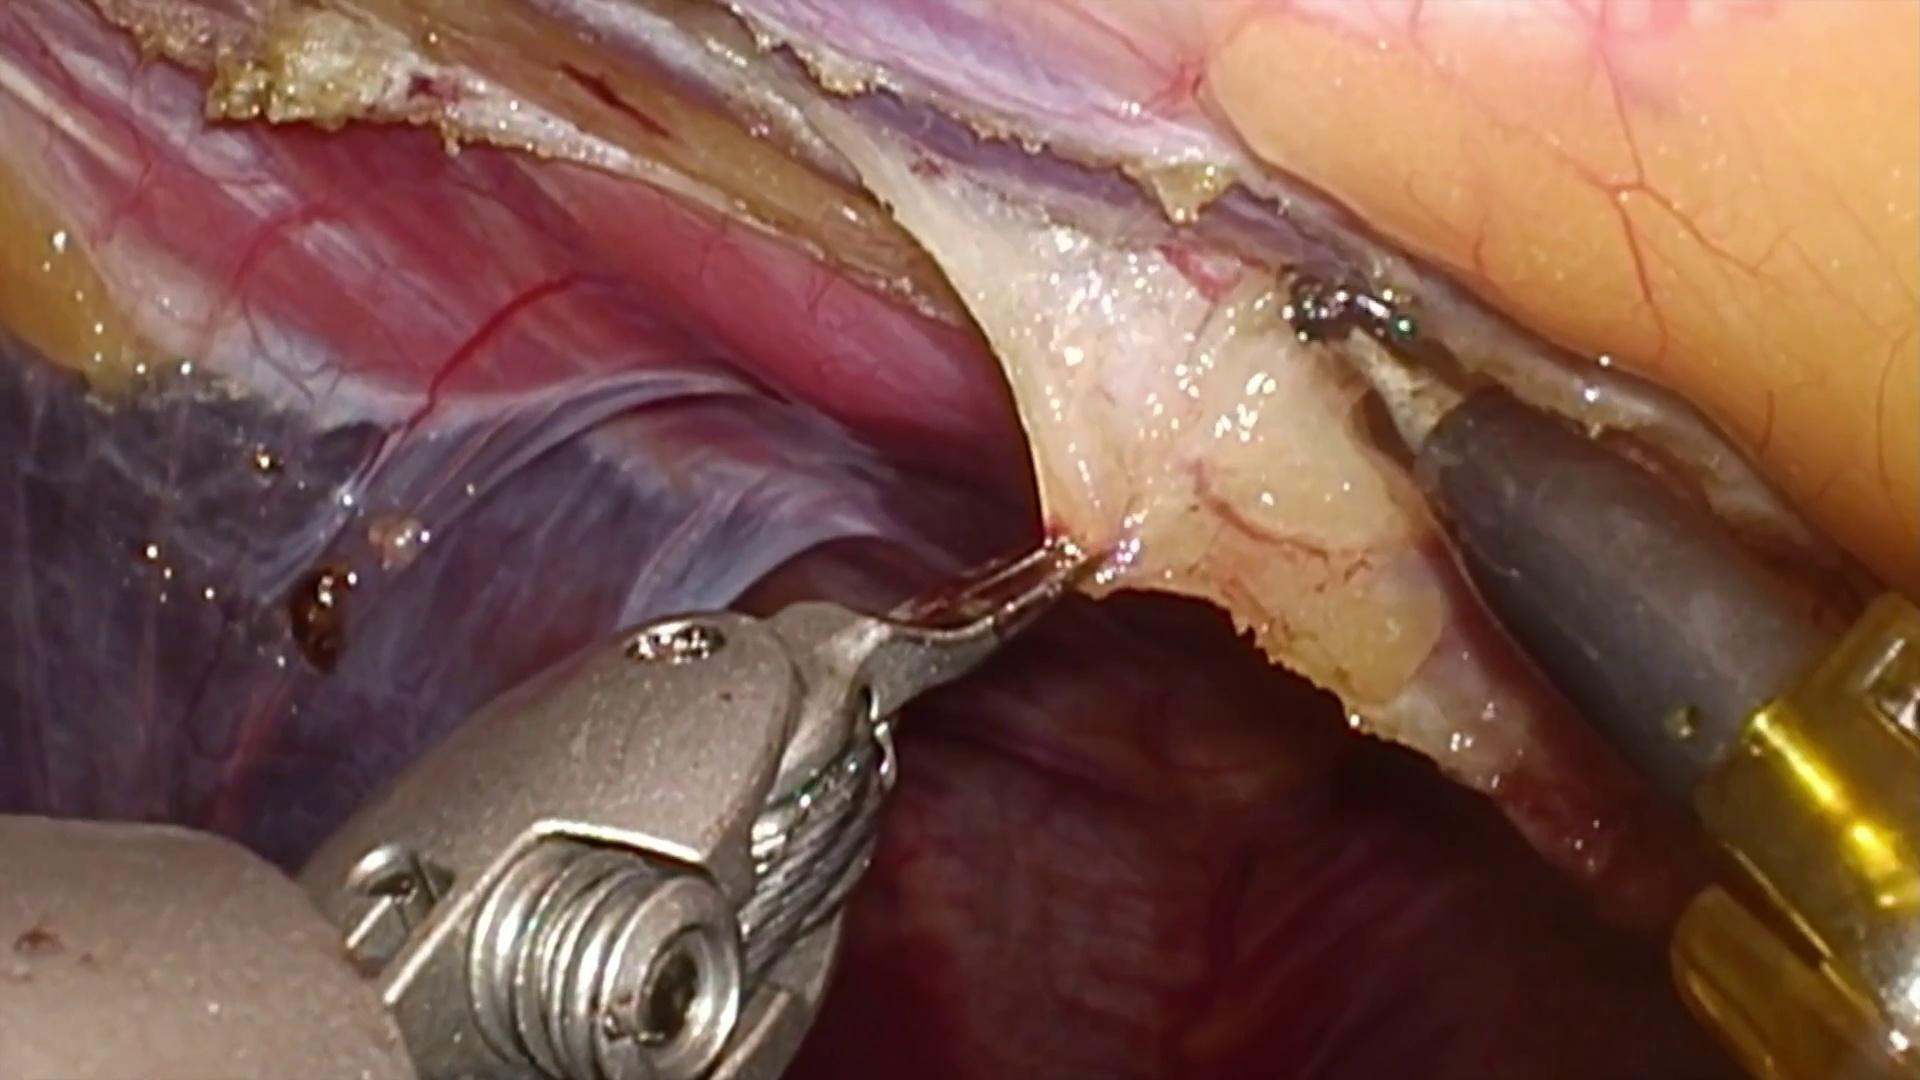Cautery_Spatula: (1298, 269, 1854, 814)
Debakey: (794, 538, 1108, 761)
